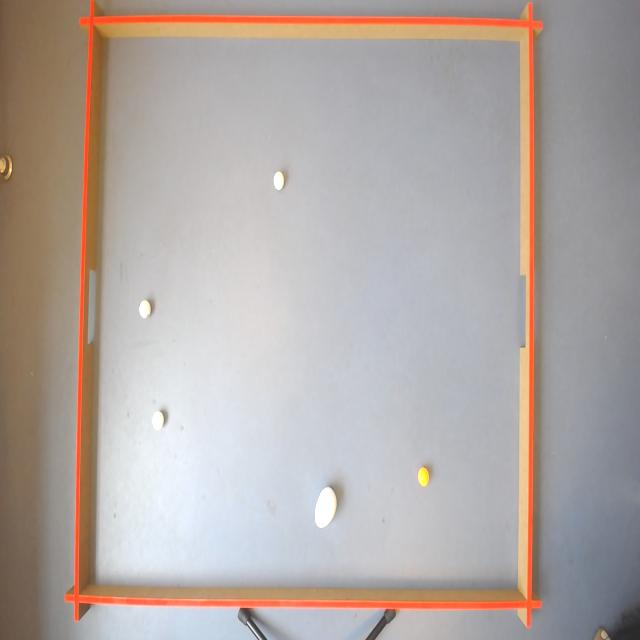egg: (314, 485, 337, 530)
orange_ball: (417, 465, 430, 488)
white_ball: (151, 409, 165, 432), (138, 298, 152, 321), (273, 170, 285, 191)
